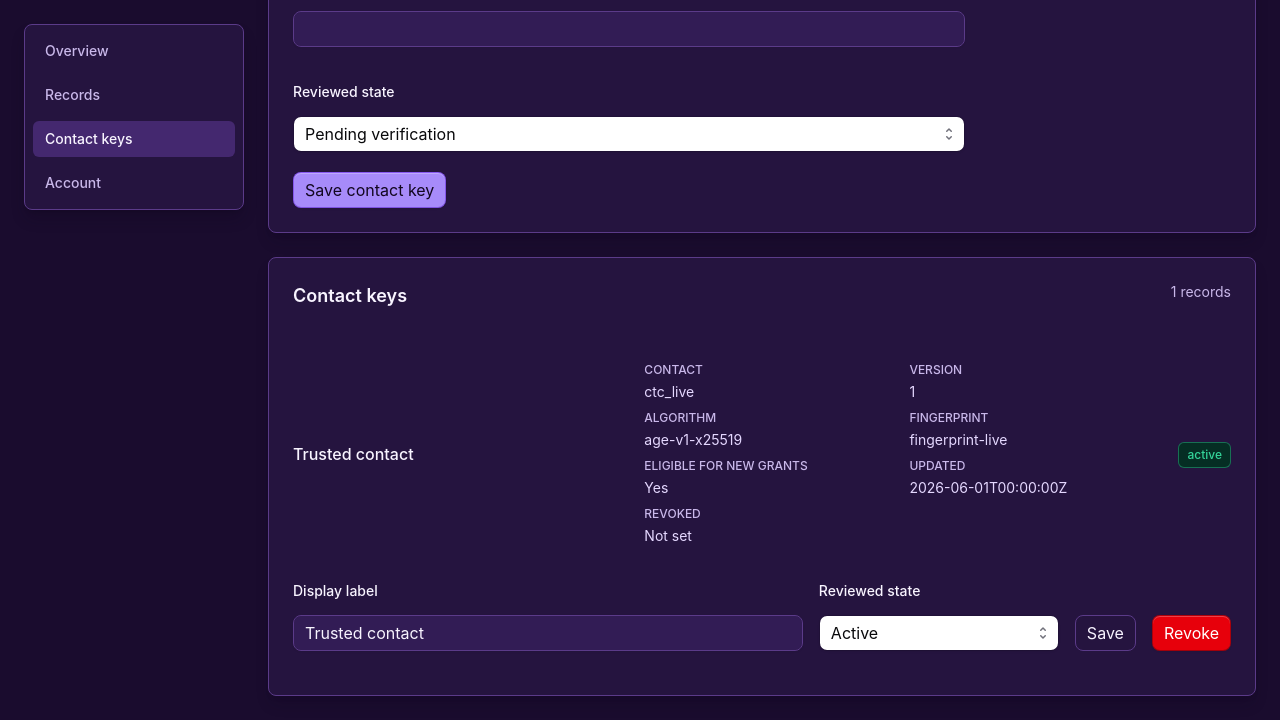
Test case: updates and revokes live contact public keys with safe states
The width and height of the screenshot is (1280, 720).
(page scrolled)
Expected: the text "Yes" is shown, x1=644 y1=479 x2=668 y2=496
Replace the text in the field labelled "Display label" with "Verified contact": (548, 633) x1=293 y1=615 x2=803 y2=651
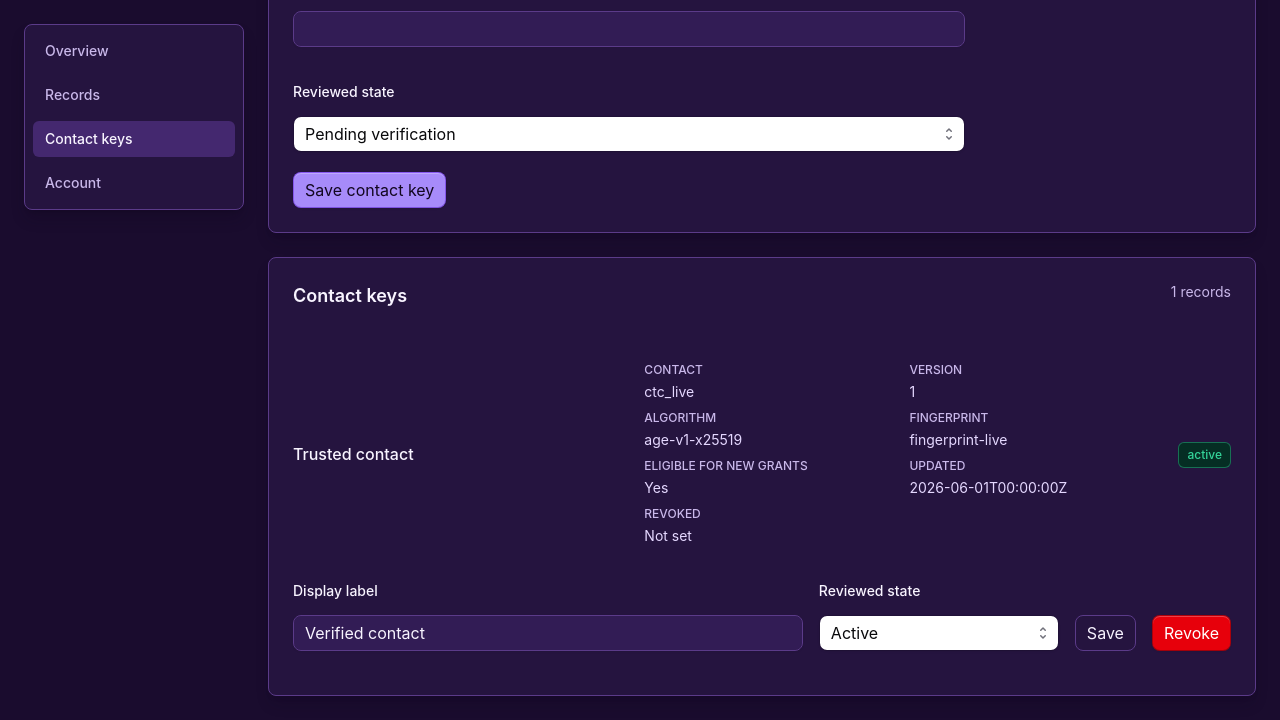
Select "Lost" in the dropdown labelled "Reviewed state" below "Not set": (939, 633) x1=819 y1=615 x2=1059 y2=651
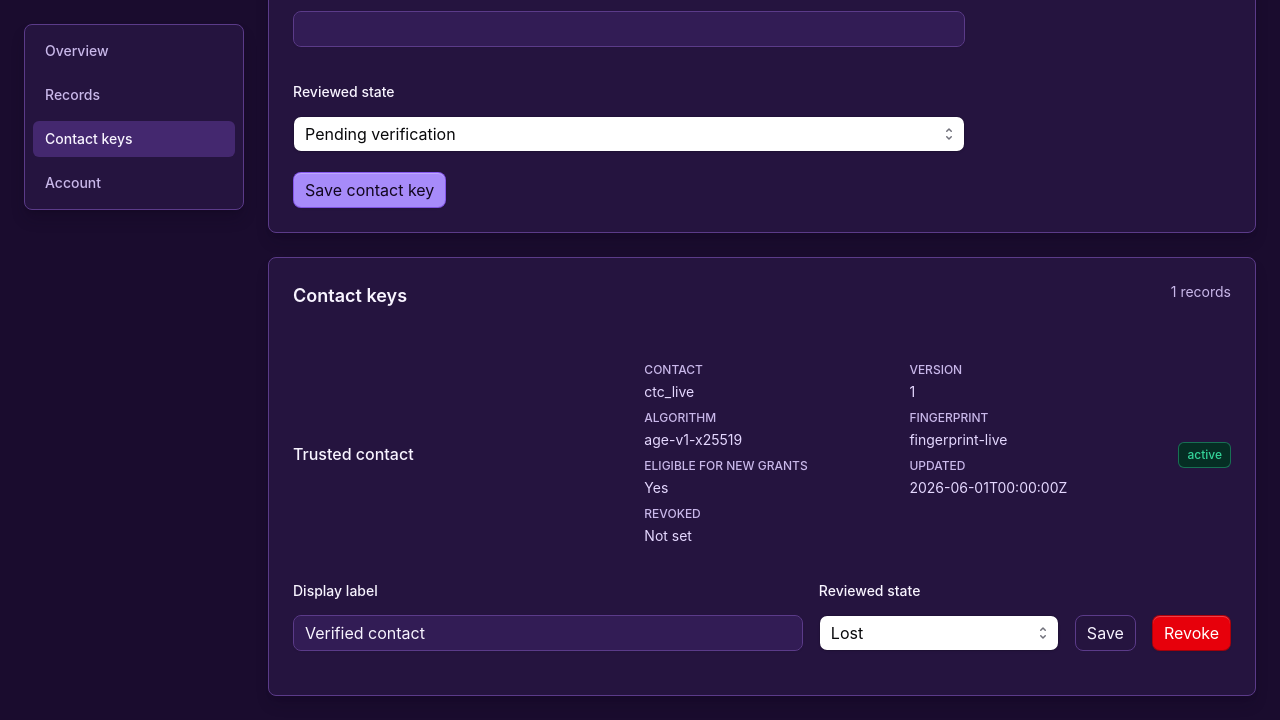
Click the button "Save": (1105, 633) x1=1075 y1=615 x2=1136 y2=651
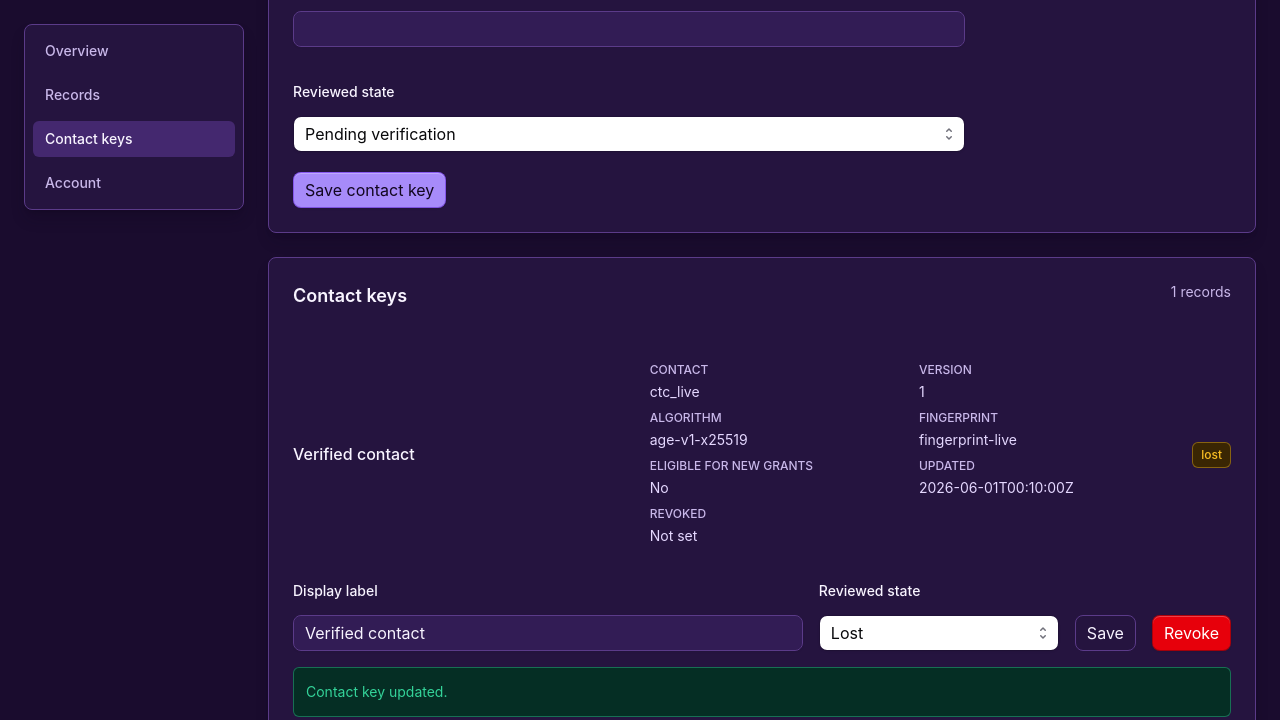
Now the text "Contact key updated." is shown, box x1=293 y1=667 x2=1231 y2=717
Now the text "No" is shown, box x1=650 y1=479 x2=669 y2=496
Click the button "Revoke": (1191, 633) x1=1152 y1=615 x2=1231 y2=651
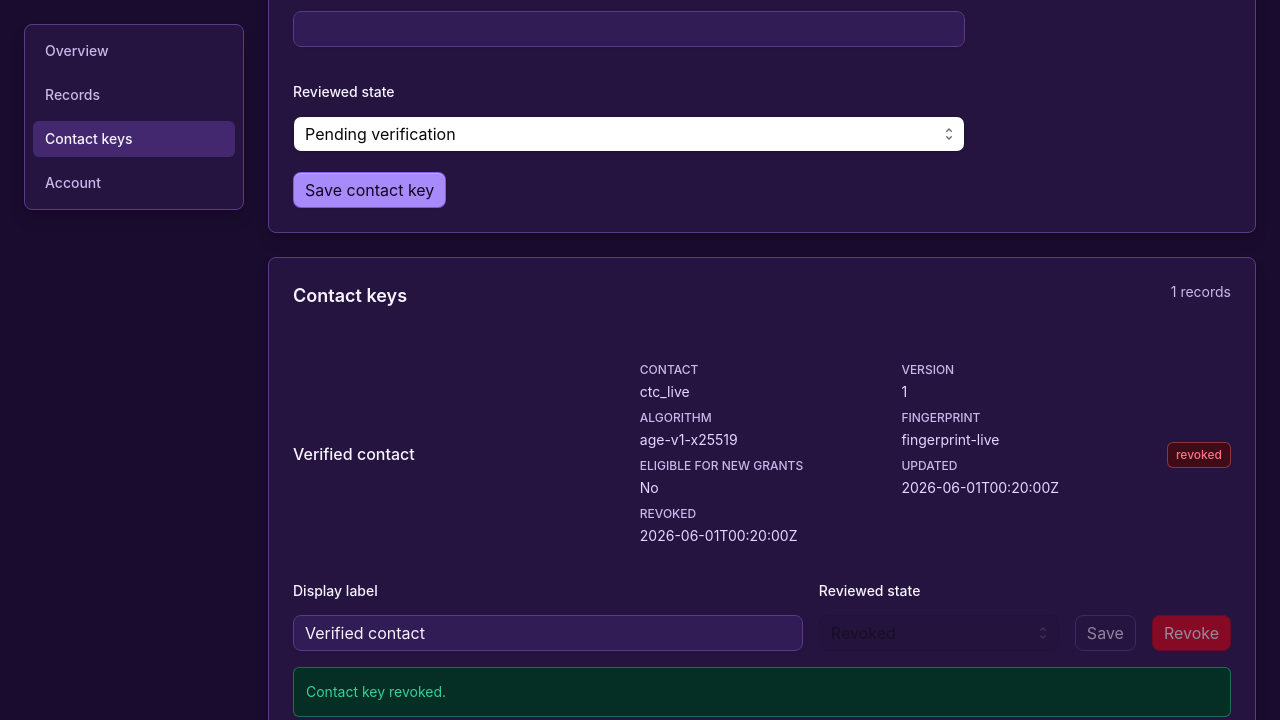
Now the text "Contact key revoked." is shown, box x1=293 y1=667 x2=1231 y2=717
Now the button "Revoke" is disabled, box x1=1152 y1=615 x2=1231 y2=651
